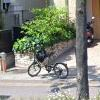bicycles: (28, 52, 69, 79)
